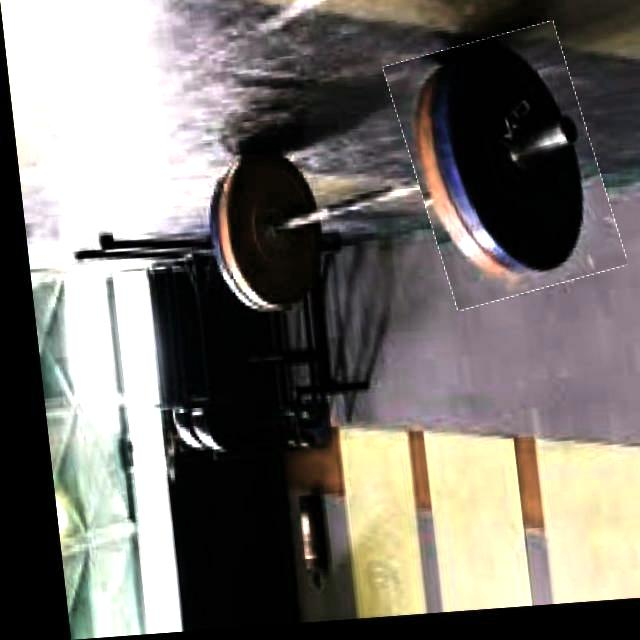barbell: (390, 35, 612, 312)
